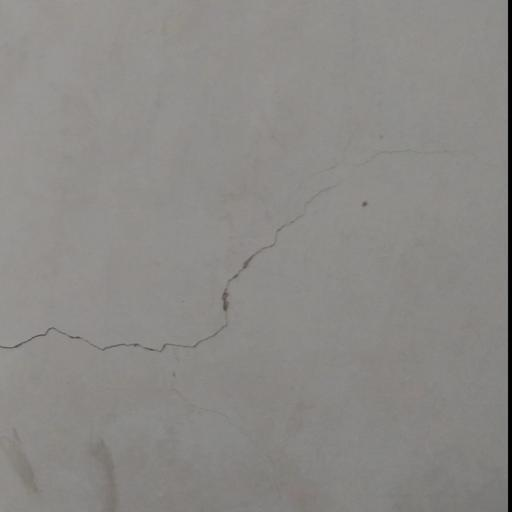minor_crack: (0, 108, 512, 364)
